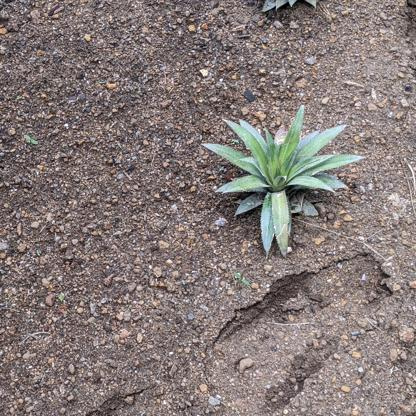pineapple: (200, 103, 364, 256)
